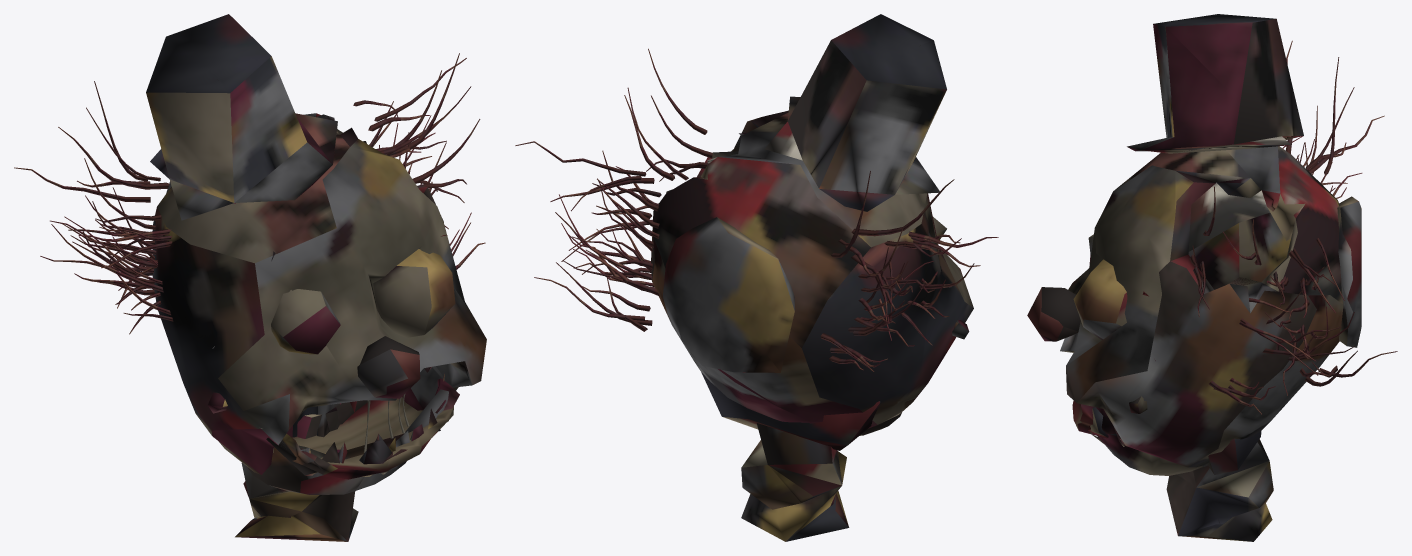
Rendered from prop_head.obj.
3 views of the same model, side by side, from view 1: azimuth 30°, elevation 25°; view 2: azimuth 150°, elevation 25°; view 3: azimuth 270°, elevation 25° (orthographic). The views are drawn at different scales.
Parts seen in each view (by area): view 1: prop_head; view 2: prop_head; view 3: prop_head.
Part boxes in pixels (x1,y1,x2,y2): prop_head: (14, 14, 486, 541); prop_head: (515, 14, 998, 541); prop_head: (1027, 14, 1397, 541).
Size of the model in its own units: 0.4704 by 0.5253 by 0.367.
1 material, 1 textured.
